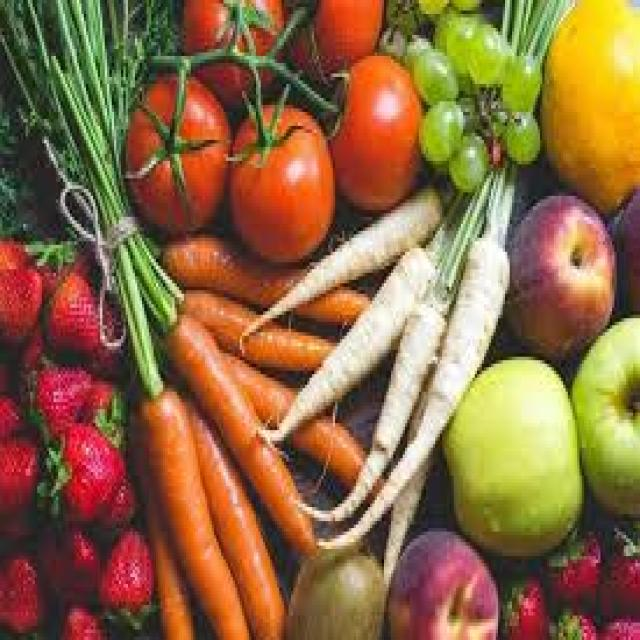organic waste: (0, 0, 179, 388), (312, 234, 507, 546), (161, 308, 314, 560), (261, 230, 435, 448), (291, 290, 444, 521), (233, 178, 447, 340), (221, 343, 393, 514), (442, 350, 580, 560), (179, 378, 284, 636), (142, 384, 249, 636), (535, 0, 638, 210), (158, 234, 366, 326), (223, 91, 333, 262), (503, 189, 614, 350), (124, 63, 230, 227), (319, 45, 421, 210), (128, 384, 191, 636), (570, 308, 638, 514), (188, 280, 333, 370), (384, 524, 498, 636), (426, 154, 507, 280), (284, 538, 386, 636), (182, 0, 282, 91), (35, 416, 123, 518), (379, 462, 428, 605), (95, 518, 154, 633), (284, 0, 384, 63), (72, 255, 126, 371), (18, 336, 90, 423), (42, 252, 102, 350), (42, 511, 98, 602), (0, 420, 40, 542), (605, 185, 638, 318), (545, 525, 598, 605), (498, 552, 547, 636), (0, 539, 40, 633), (598, 521, 638, 612), (0, 259, 42, 343), (414, 98, 463, 164), (81, 378, 126, 448), (98, 472, 142, 532), (496, 52, 538, 112), (447, 126, 486, 189), (496, 105, 538, 161), (30, 231, 79, 276), (412, 39, 451, 94), (465, 21, 498, 84), (428, 0, 475, 42), (542, 602, 598, 636), (400, 21, 433, 77), (58, 598, 105, 637), (442, 14, 470, 77), (486, 98, 517, 154), (384, 0, 424, 35), (596, 608, 638, 636), (0, 353, 16, 426), (377, 18, 403, 60), (454, 84, 477, 122), (0, 235, 26, 262), (402, 28, 430, 52), (412, 0, 447, 17), (491, 28, 514, 52), (446, 0, 477, 10)
